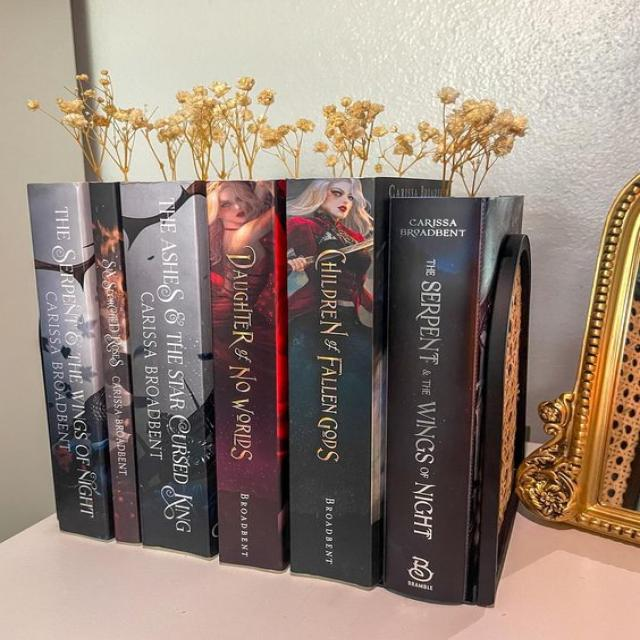book: (378, 197, 486, 604), (287, 178, 381, 586), (116, 182, 217, 556), (207, 182, 286, 569), (28, 182, 111, 539)
